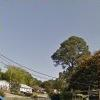Tree: (48, 27, 100, 71)
